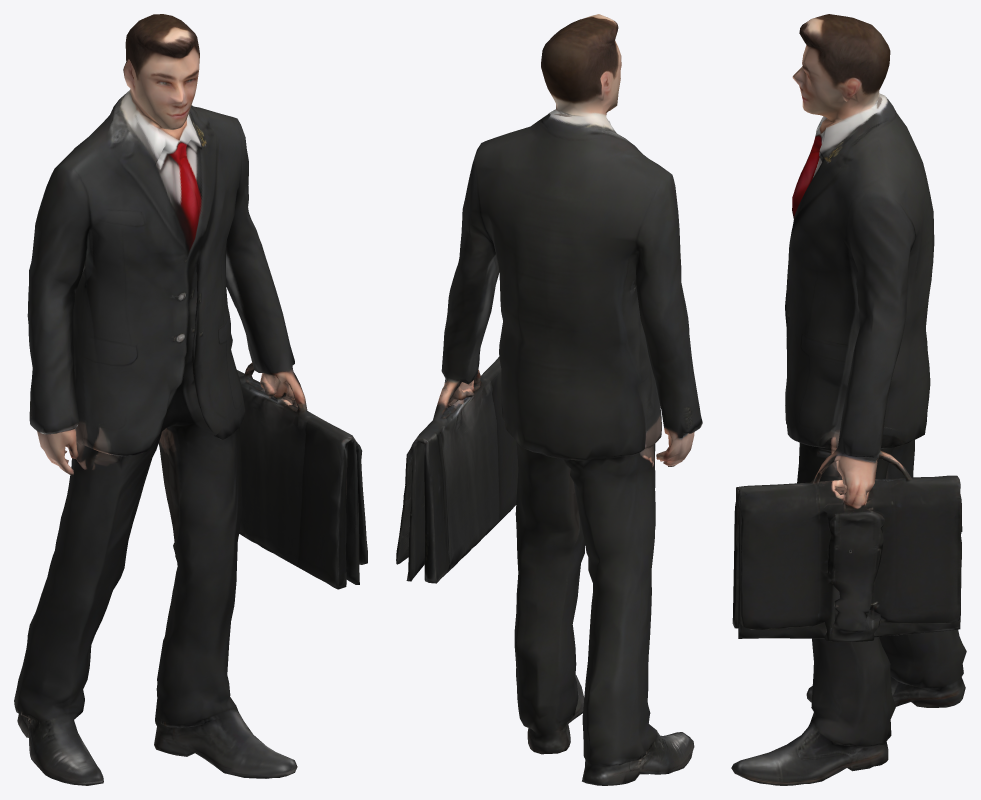
Rendered from Business_Professional.glb.
3 views of the same model, side by side, from view 1: azimuth 30°, elevation 25°; view 2: azimuth 150°, elevation 25°; view 3: azimuth 270°, elevation 25° (orthographic). The views are drawn at different scales.
Size of the model in its own units: 0.7776 by 2 by 0.5855.
Materials: 1 (1 with a texture image).
